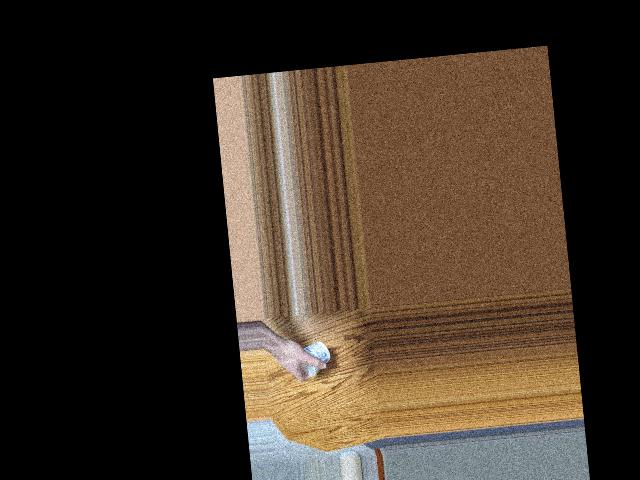cotage: (296, 338, 333, 378)
